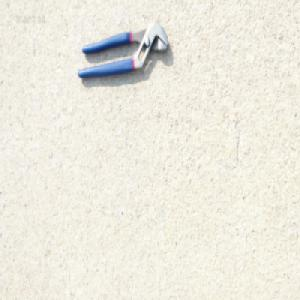Pliers: (76, 19, 170, 82)
